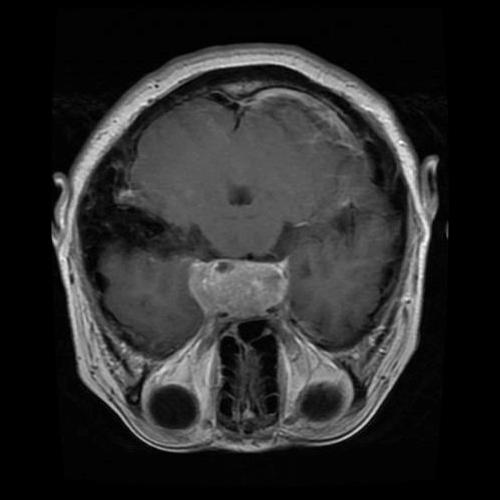Tumour-Pituitary: (178, 253, 309, 334)
